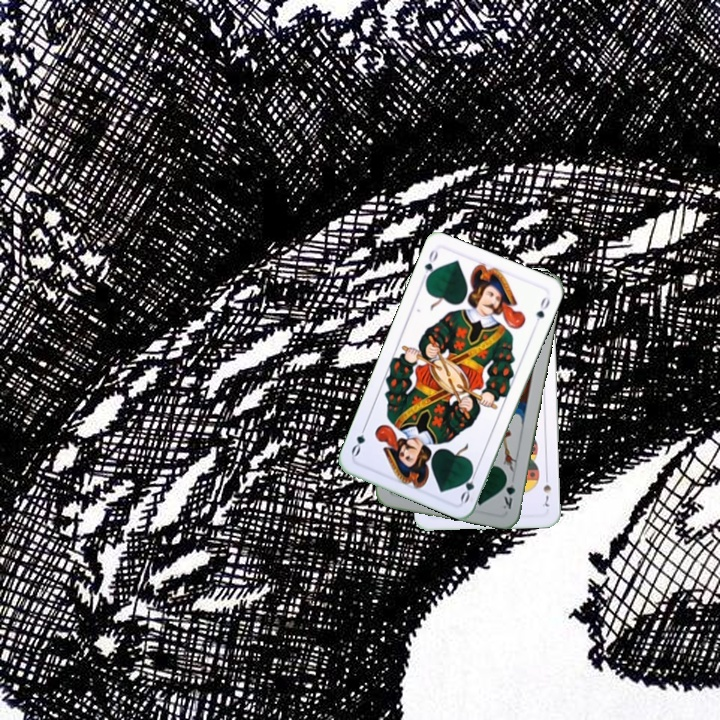GK: (499, 472, 518, 512)
GO: (456, 464, 480, 505), (417, 246, 441, 285)
S7: (539, 471, 554, 509)
